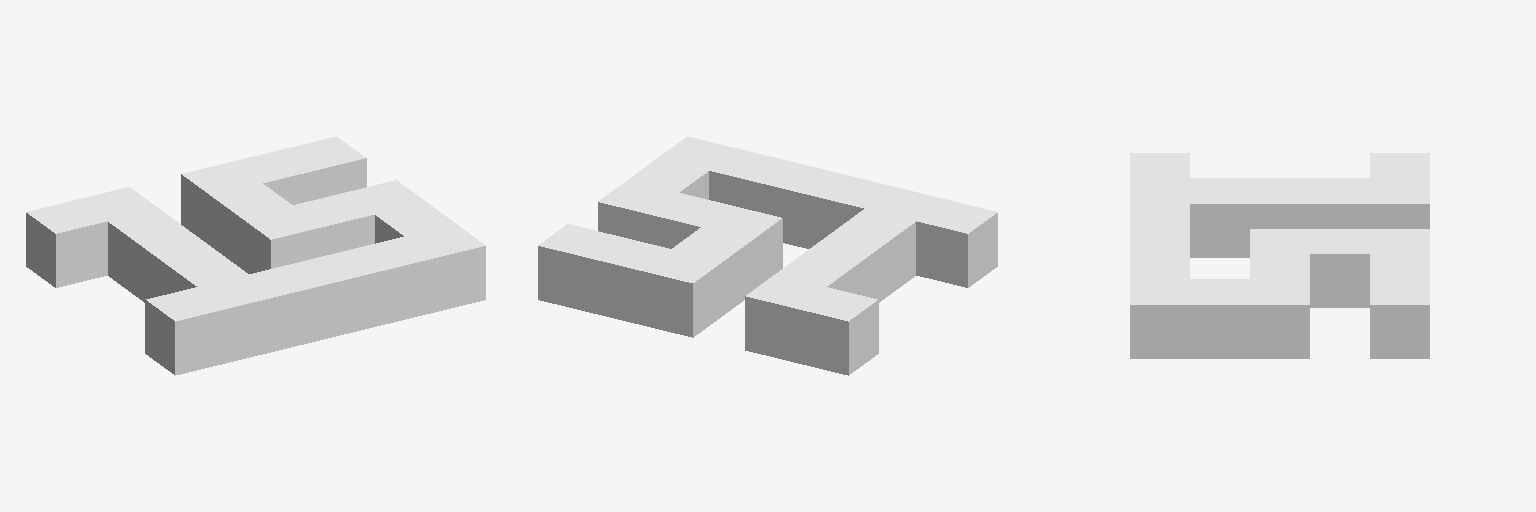
The model's file is Number-15.obj.
3 views of the same model, side by side, from view 1: azimuth 30°, elevation 25°; view 2: azimuth 150°, elevation 25°; view 3: azimuth 270°, elevation 25° (orthographic).
Bounding box in the file's own units: 6 × 1 × 5.